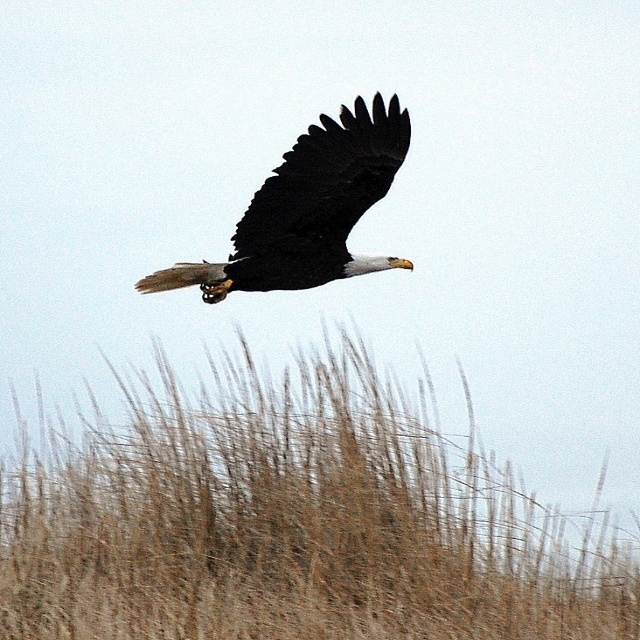Eagle: (124, 93, 425, 314)
